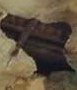Exposed reinforcement: (1, 15, 71, 44), (8, 36, 67, 60), (17, 19, 39, 47)
Spalling: (1, 12, 77, 78)
